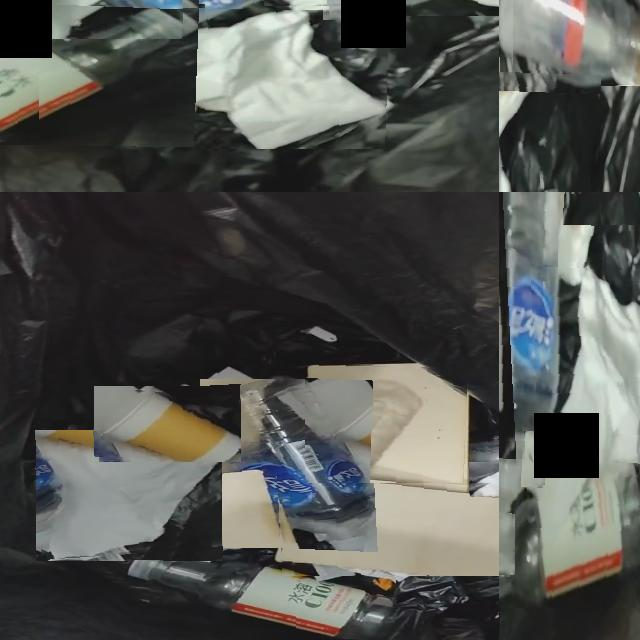bottle: (200, 379, 368, 542), (0, 0, 199, 133), (129, 555, 396, 639), (499, 192, 565, 505), (499, 463, 640, 604), (499, 0, 640, 85), (69, 0, 260, 44)
carton: (281, 476, 499, 576), (305, 366, 466, 483)
dixie_cup: (97, 390, 241, 462)
paper: (39, 9, 388, 149), (539, 269, 640, 528), (37, 430, 222, 560), (558, 194, 602, 284), (312, 564, 420, 582), (525, 431, 545, 485), (499, 514, 515, 575), (471, 470, 499, 487)
